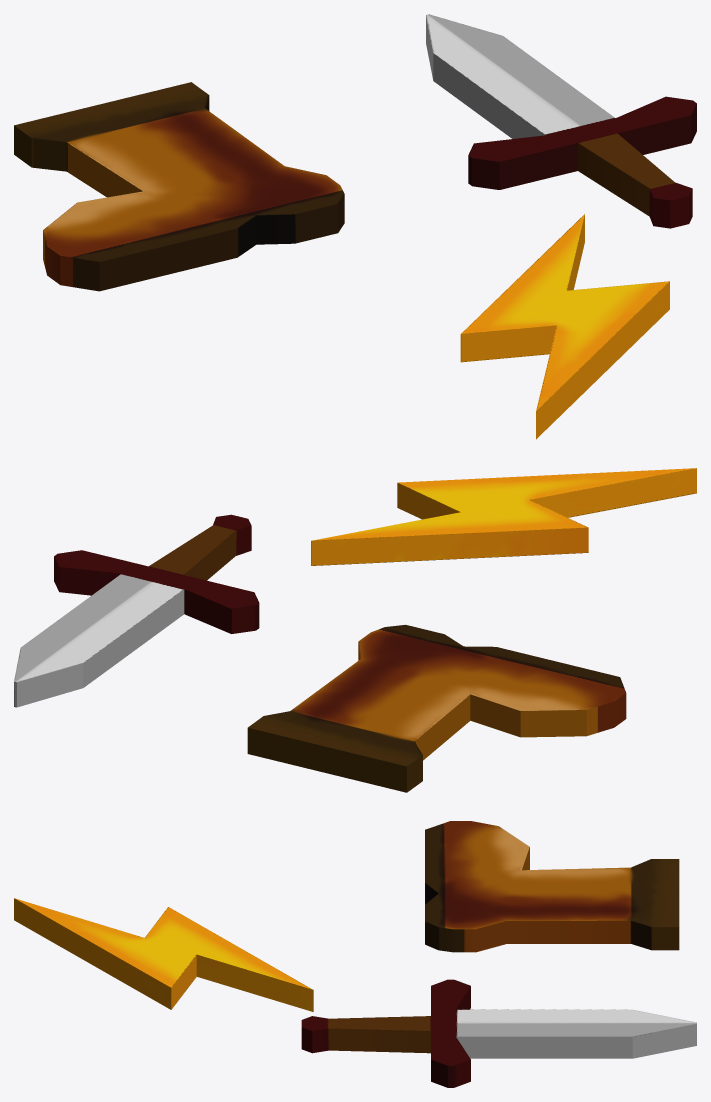
Rendered from ASM.FBX.
3 views of the same model, one above another, from view 1: azimuth 30°, elevation 25°; view 2: azimuth 150°, elevation 25°; view 3: azimuth 270°, elevation 25° (orthographic). The views are drawn at different scales.
Visible parts, largest first — view 1: Box001, Box002, Line001; view 2: Box001, Box002, Line001; view 3: Box001, Box002, Line001.
Boxes of the visible parts, x1,y1,x2,y2 form: Box001: (14, 82, 344, 291); Box002: (426, 14, 696, 228); Line001: (460, 214, 669, 439); Box001: (247, 624, 626, 792); Box002: (14, 514, 259, 707); Line001: (311, 468, 696, 565); Box001: (425, 821, 679, 952); Box002: (301, 979, 696, 1087); Line001: (14, 898, 313, 1011).
Bounding box in the file's own units: 99.21 × 4.37 × 117.
Materials: 3 (3 with a texture image).
